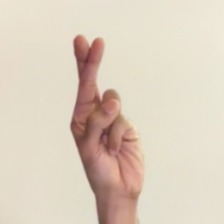R: (49, 11, 156, 211)
